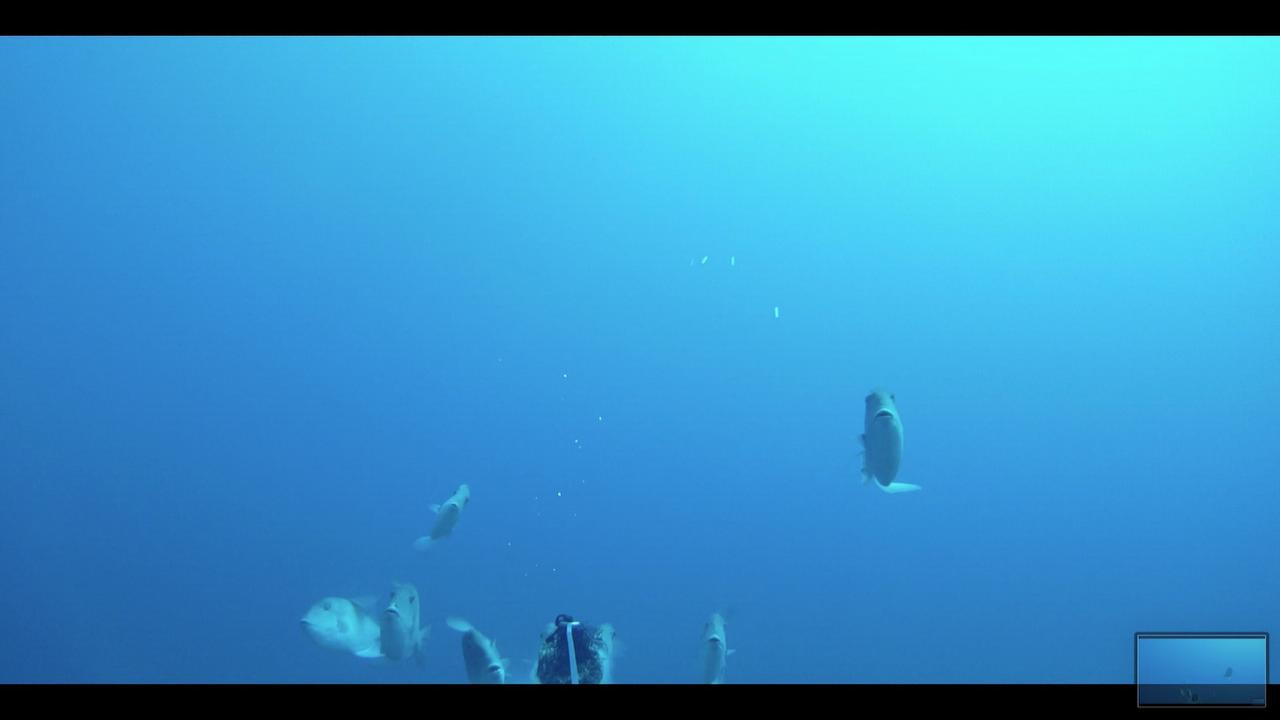balistes: (840, 382, 923, 497), (291, 590, 375, 664), (374, 575, 433, 670), (438, 611, 516, 681), (411, 476, 475, 558), (689, 597, 743, 685)
